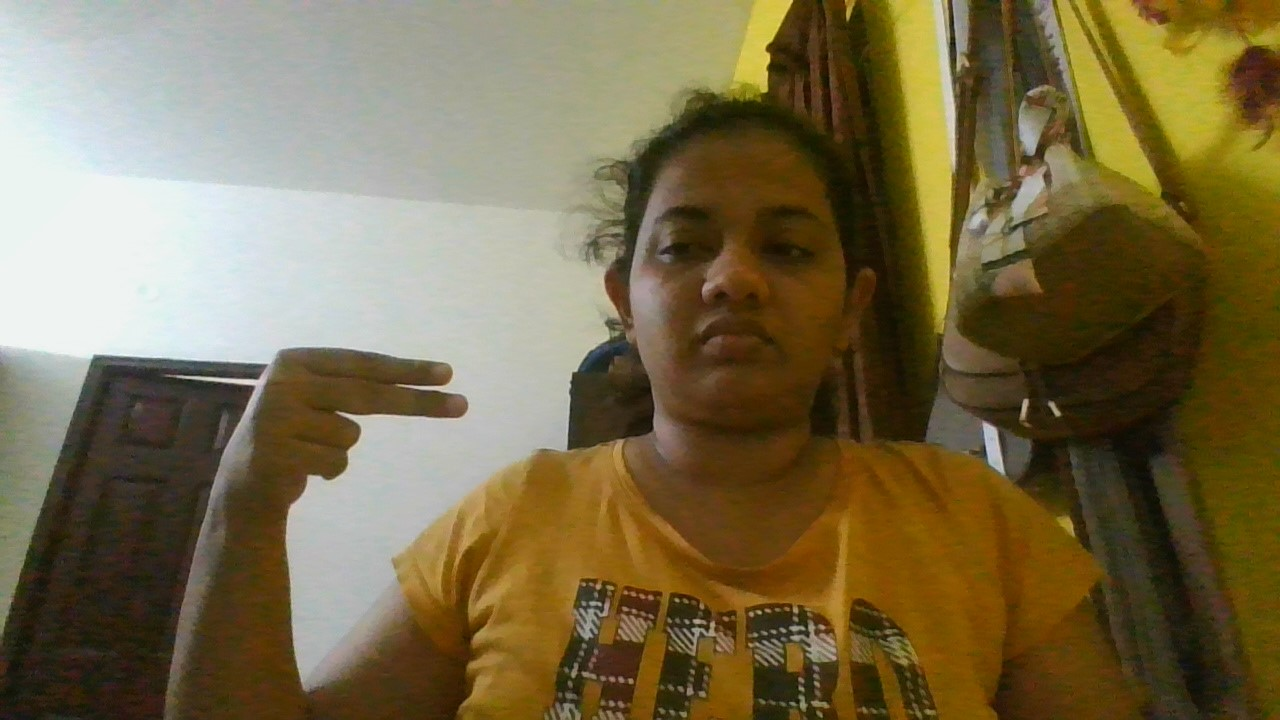h: (189, 332, 495, 516)
